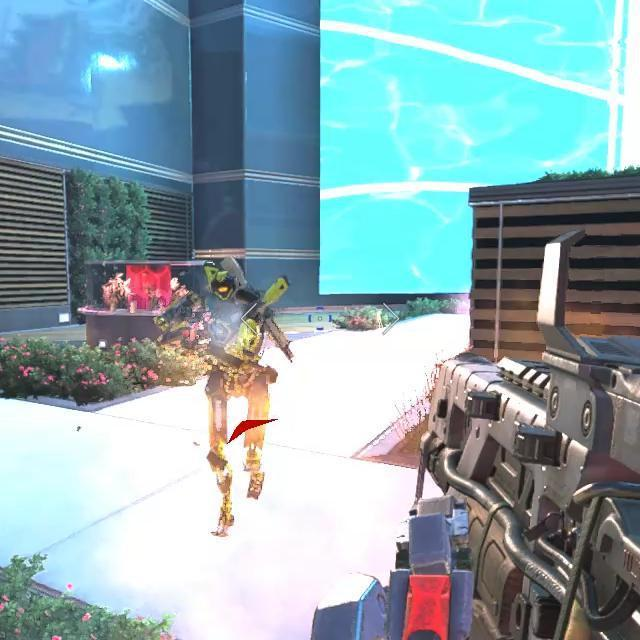avatar: (152, 258, 296, 540)
